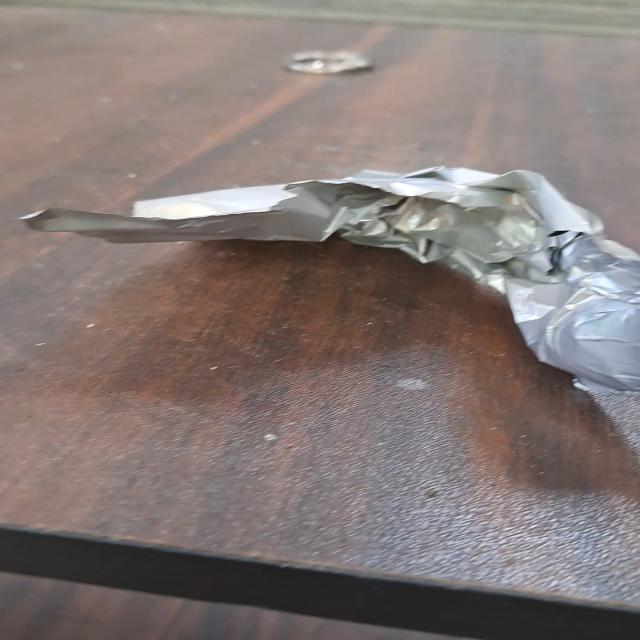Anorganik: (23, 160, 640, 400)
